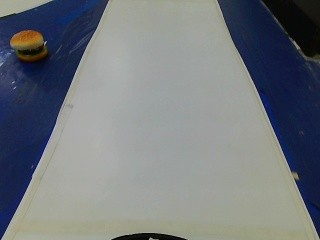burger: (8, 29, 49, 63)
